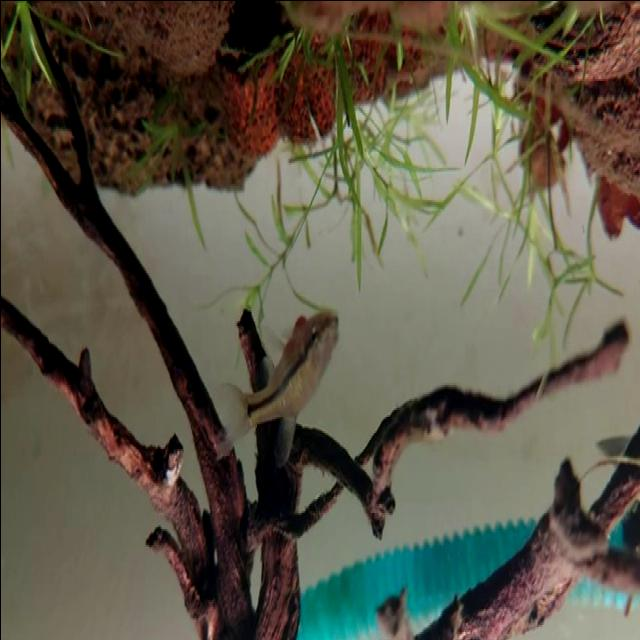Cakil Baligi: (218, 308, 346, 464)
